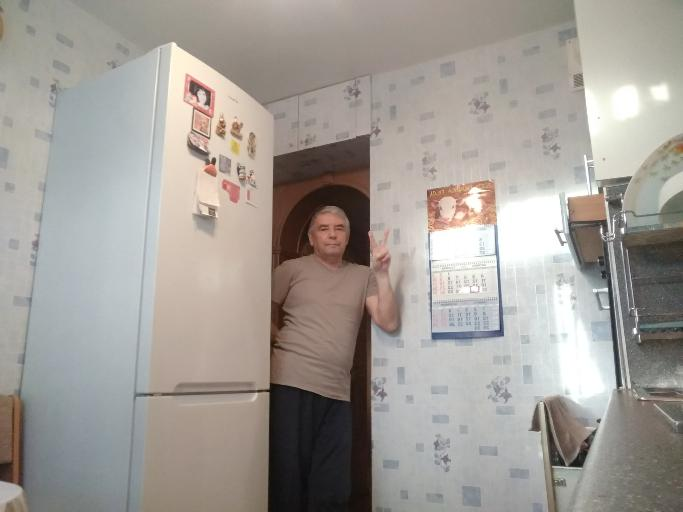peace: (365, 226, 394, 277)
